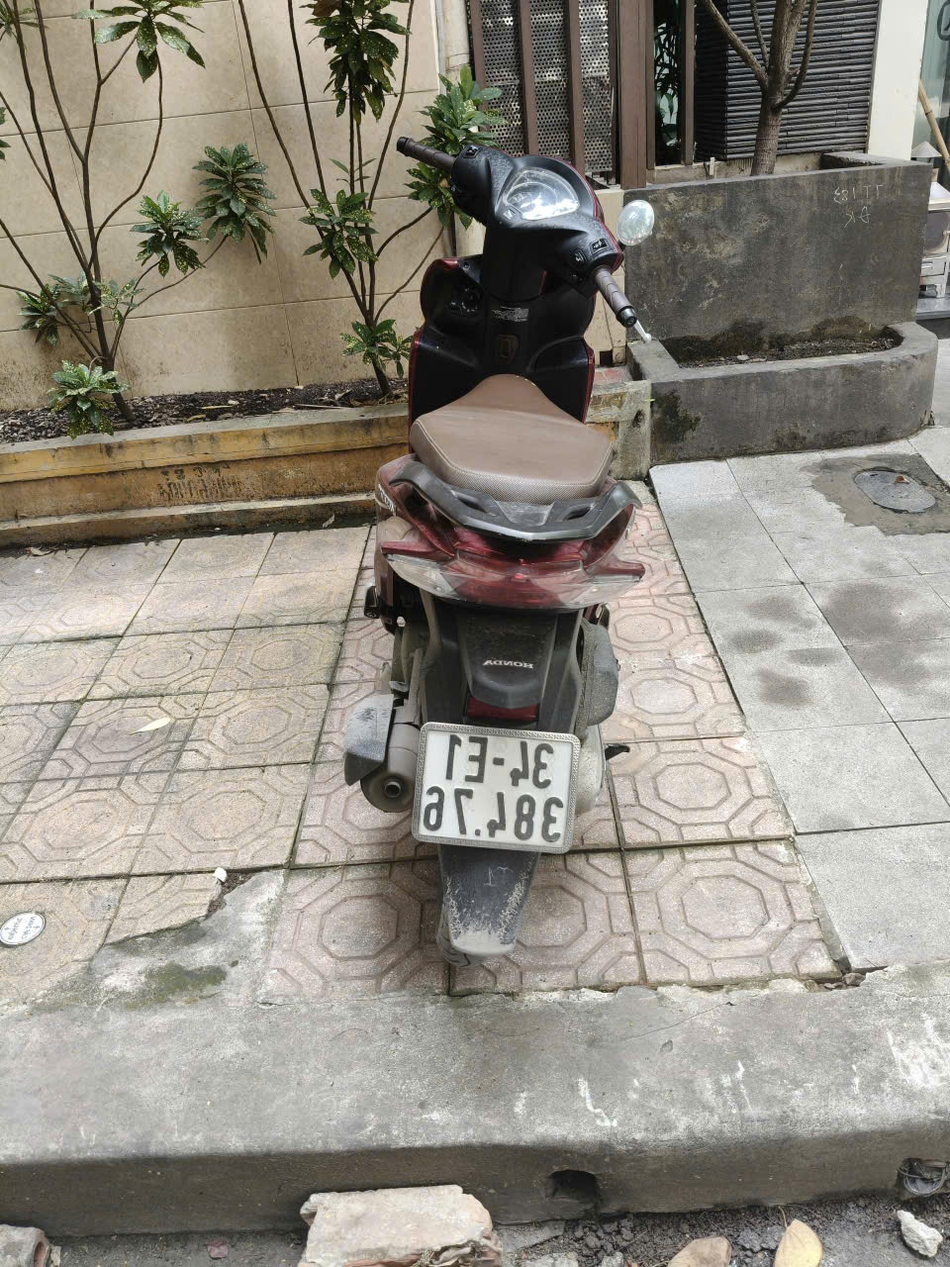plate: (563, 581, 701, 625)
